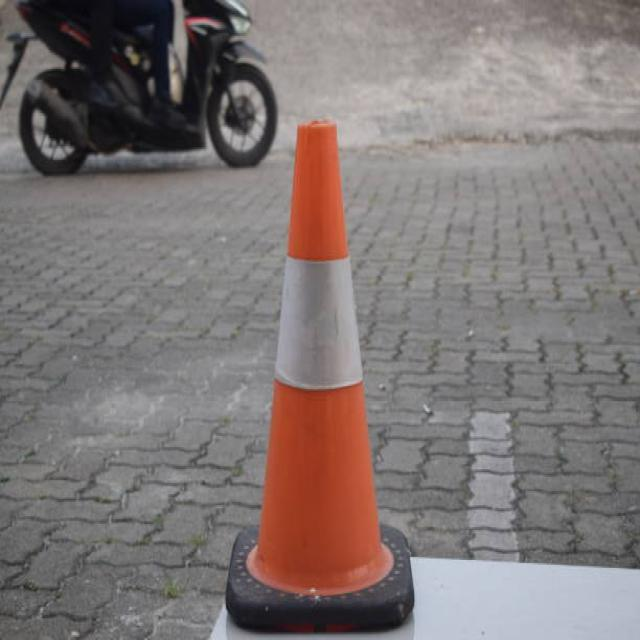Traffic Cone: (210, 106, 440, 640)
